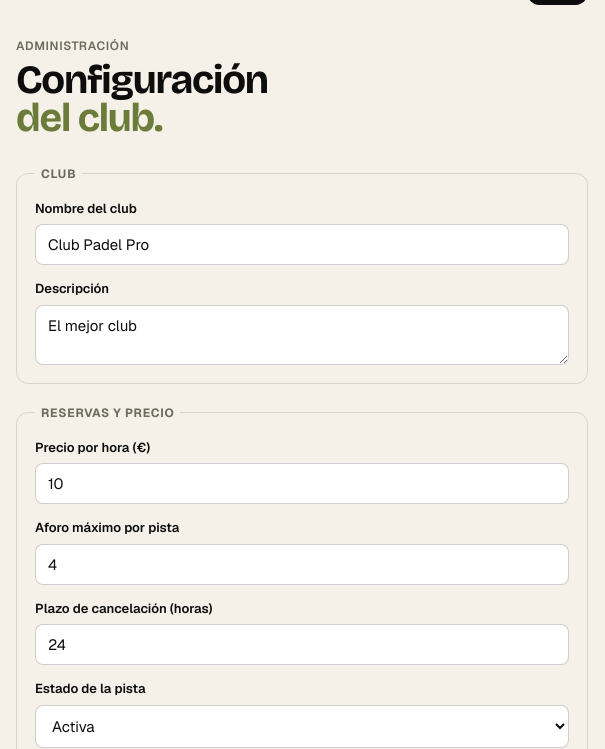
ConfiguracionPage › un precio inválido no deja guardar y avisa
Replace the text in the number field labelled "Precio por hora (€)" with "0": {"x": 302, "y": 484} [35,463,569,504]
(page scrolled)
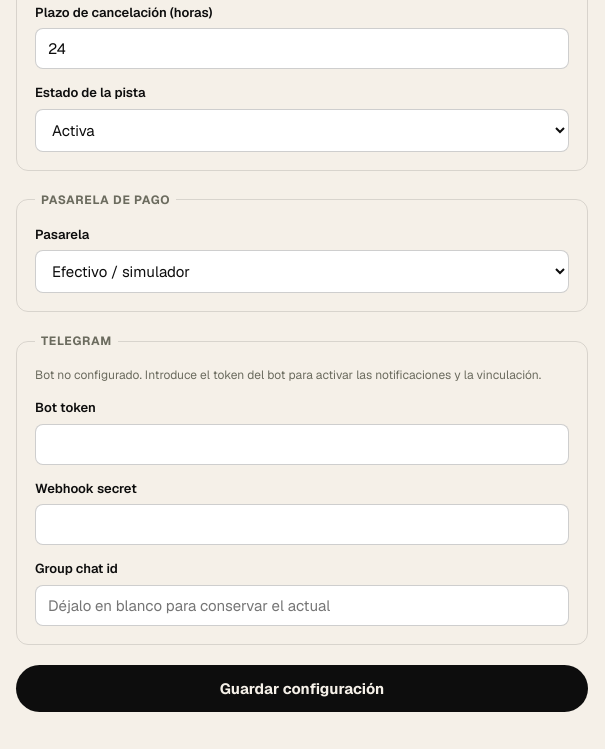
Click the button "Guardar configuración": {"x": 302, "y": 688} [16,664,588,712]
(page scrolled)
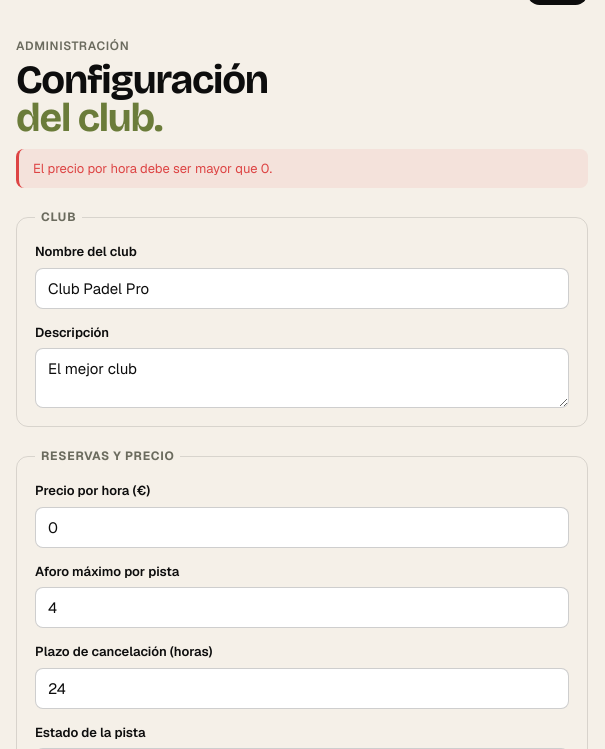
Now the message shows "precio por hora debe ser mayor", box [33,160,272,176]
